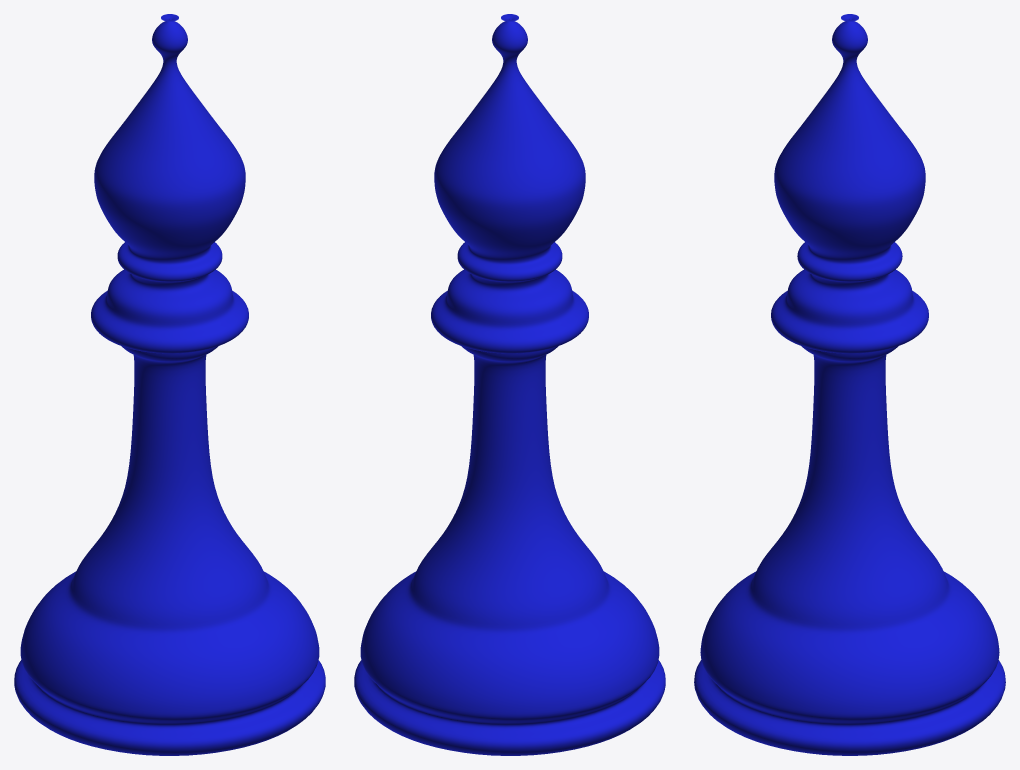
File: bishop.gltf
The picture shows the model from 3 angles, left to right: view 1: azimuth 30°, elevation 25°; view 2: azimuth 150°, elevation 25°; view 3: azimuth 270°, elevation 25°; orthographic projection.
Visible parts, largest first — view 1: Bishop; view 2: Bishop; view 3: Bishop.
Boxes of the visible parts, x1=… form: Bishop: x1=14, y1=14, x2=325, y2=755; Bishop: x1=354, y1=14, x2=665, y2=755; Bishop: x1=694, y1=14, x2=1005, y2=755.
Bounding box in the file's own units: 0.5643 × 1.37 × 0.5643.
